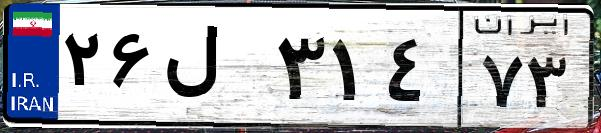1: (330, 28, 385, 110)
2: (57, 26, 110, 100)
3: (270, 28, 330, 110), (525, 38, 570, 115)
4: (385, 28, 445, 110)
6: (110, 28, 158, 98)
7: (475, 38, 525, 113)
ل: (158, 20, 270, 120)
